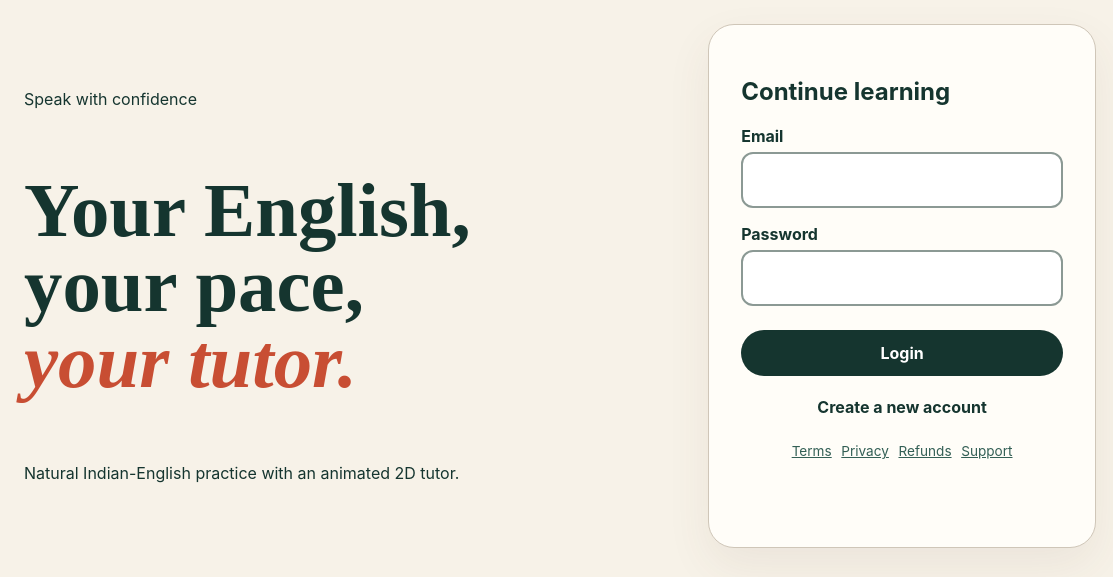
learner routes › shows privacy-safe login failure
Type "wrong@example.invalid" into the field labelled "Email" at (902, 180), box left=741, top=152, right=1063, bottom=208
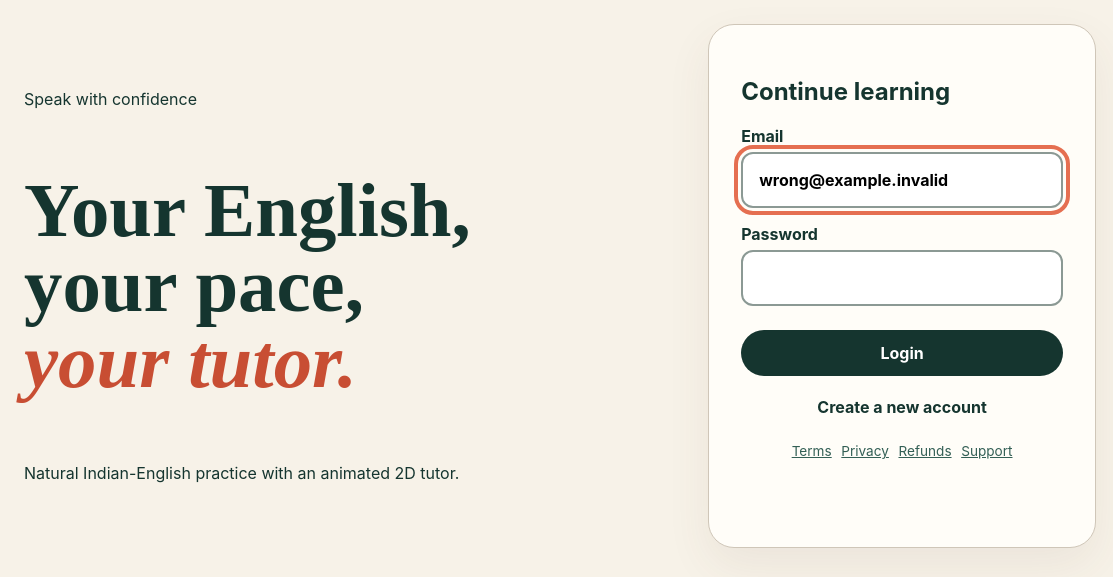
Type "WrongPassword123!" into the password field labelled "Password" at (902, 278), box left=741, top=250, right=1063, bottom=306
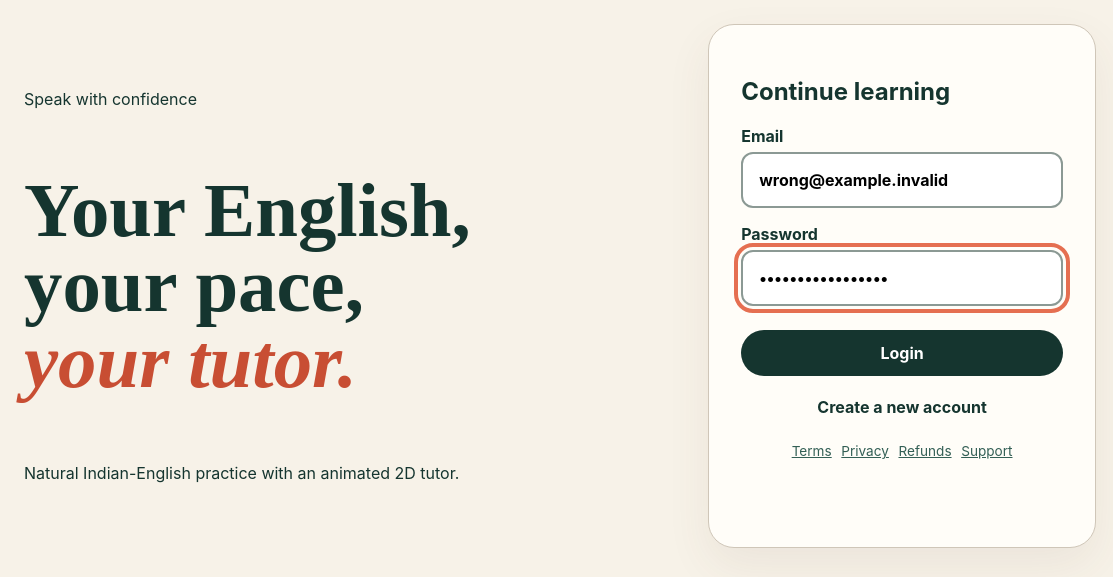
Click the button "Login" at (902, 353), box left=741, top=330, right=1063, bottom=376
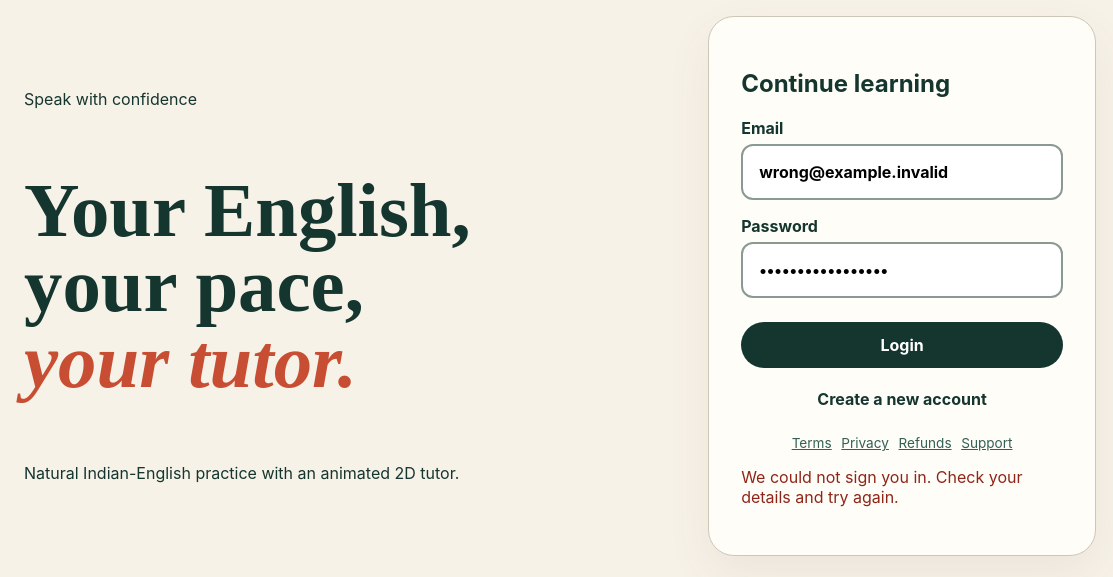
Expected: the message shows "could not sign you in", left=741, top=467, right=1022, bottom=507
